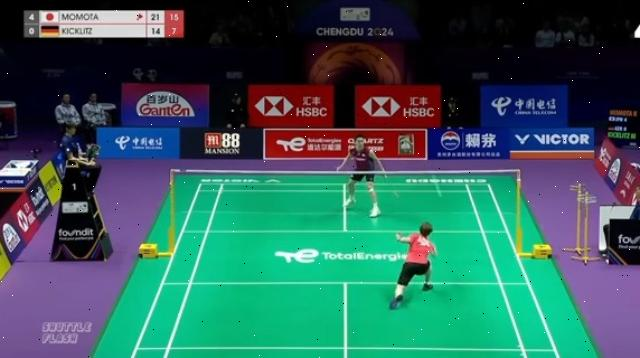Shuttlecock: (434, 177, 448, 199)
